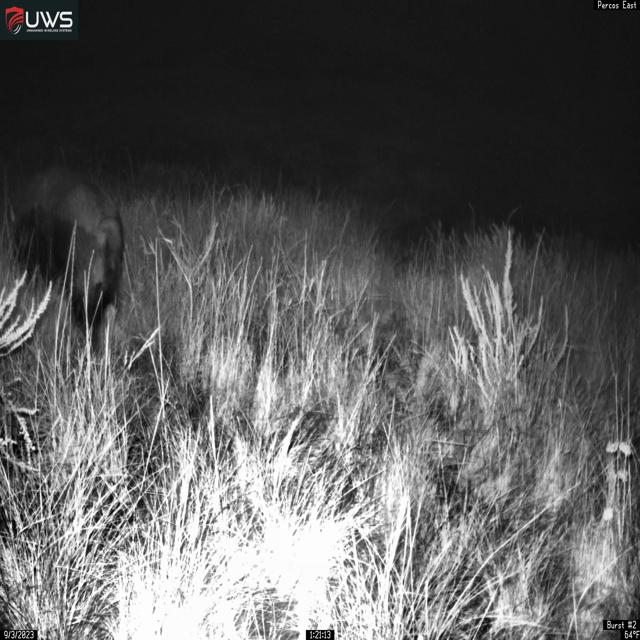pig: (7, 163, 126, 366)
